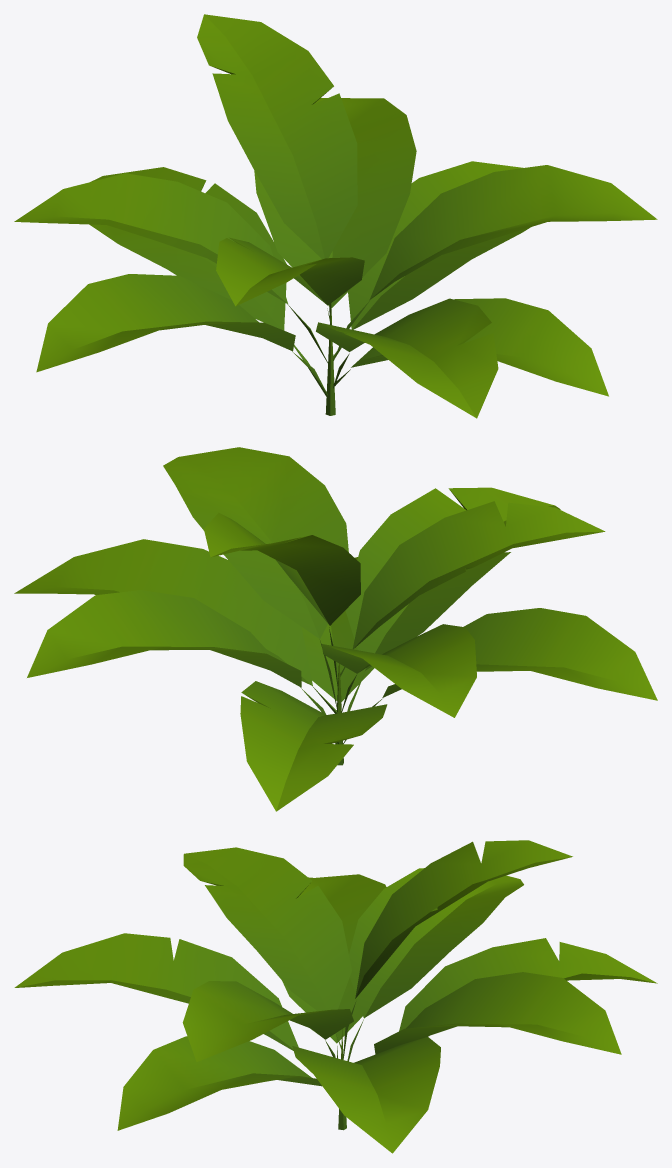
The model's file is SM_Nature_Plant_01.fbx.
3 renders of one model, top to bottom at view 1: azimuth 30°, elevation 25°; view 2: azimuth 150°, elevation 25°; view 3: azimuth 270°, elevation 25°, orthographic. The views are drawn at different scales.
Parts seen in each view (by area): view 1: SM_Nature_Plant_01_LOD0; view 2: SM_Nature_Plant_01_LOD0; view 3: SM_Nature_Plant_01_LOD0.
Part boxes in pixels (bbox=[...]): SM_Nature_Plant_01_LOD0: bbox=[14, 14, 657, 418]; SM_Nature_Plant_01_LOD0: bbox=[14, 447, 657, 811]; SM_Nature_Plant_01_LOD0: bbox=[14, 840, 657, 1153].
Bounding box in the file's own units: 169 × 80.81 × 171.
